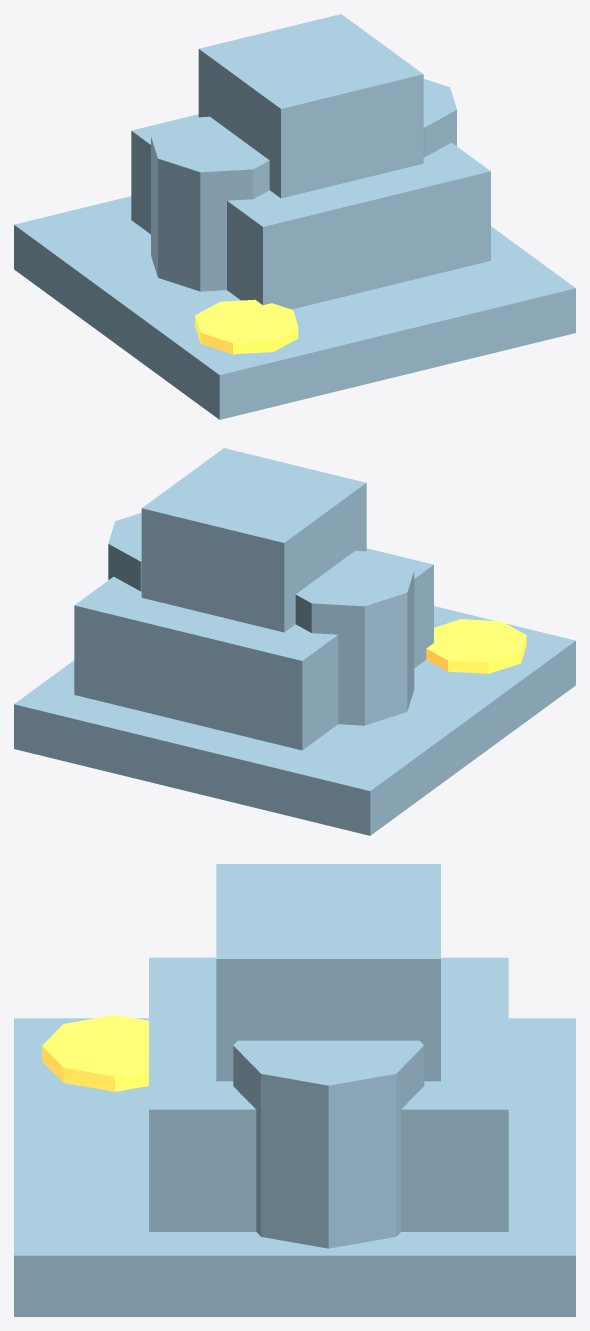
3 views of the same model, one above another, from view 1: azimuth 30°, elevation 25°; view 2: azimuth 150°, elevation 25°; view 3: azimuth 270°, elevation 25° (orthographic). The views are drawn at different scales.
Visible parts, largest first — view 1: capability, integration, ops; view 2: capability, integration, ops; view 3: capability, integration.
Boxes of the visible parts, x1=… form: capability: x1=14, y1=14, x2=575, y2=419; integration: x1=151, y1=79, x2=456, y2=342; ops: x1=348, y1=211, x2=391, y2=295; capability: x1=14, y1=448, x2=575, y2=835; integration: x1=108, y1=513, x2=525, y2=725; ops: x1=174, y1=649, x2=216, y2=729; capability: x1=14, y1=864, x2=575, y2=1316; integration: x1=42, y1=1015, x2=424, y2=1248.
Size of the model in its own units: 0.05 by 0.03 by 0.05.
